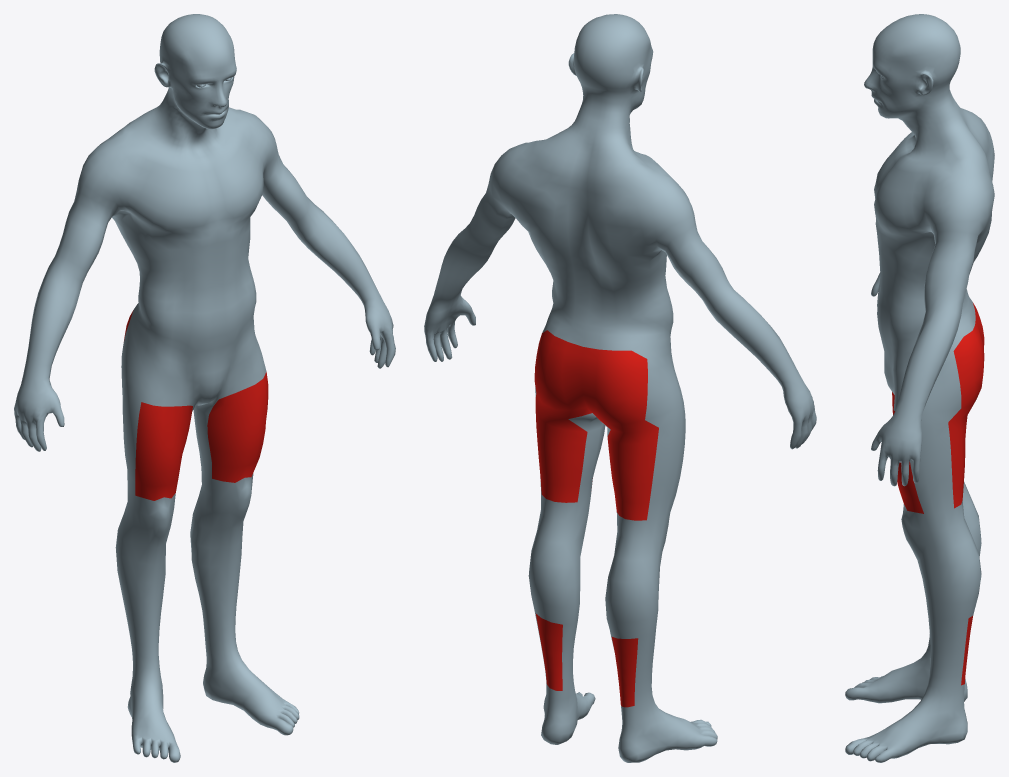
Rendered from human_muscle_lunge.glb.
3 renders of one model, left to right at view 1: azimuth 30°, elevation 25°; view 2: azimuth 150°, elevation 25°; view 3: azimuth 270°, elevation 25°, orthographic. The views are drawn at different scales.
Visible parts, largest first — view 1: Object_2; view 2: Object_2; view 3: Object_2.
Boxes of the visible parts, box(x1,y1,x2,y2) form: Object_2: box(14, 14, 395, 762); Object_2: box(424, 14, 816, 762); Object_2: box(845, 14, 994, 762).
Size of the model in its own units: 1.08 by 1.96 by 0.3749.
